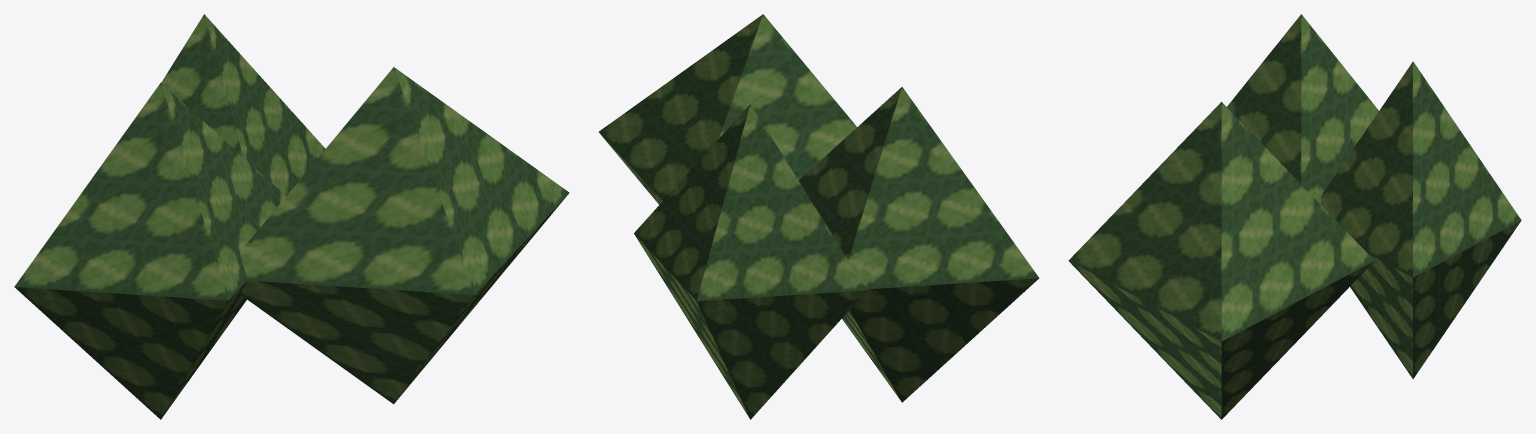
Rendered from shrub-lod1.glb.
The picture shows the model from 3 angles, left to right: view 1: azimuth 30°, elevation 25°; view 2: azimuth 150°, elevation 25°; view 3: azimuth 270°, elevation 25°; orthographic projection. The views are drawn at different scales.
Size of the model in its own units: 0.35 by 0.22 by 0.284.
Materials: 1 (1 with a texture image).
